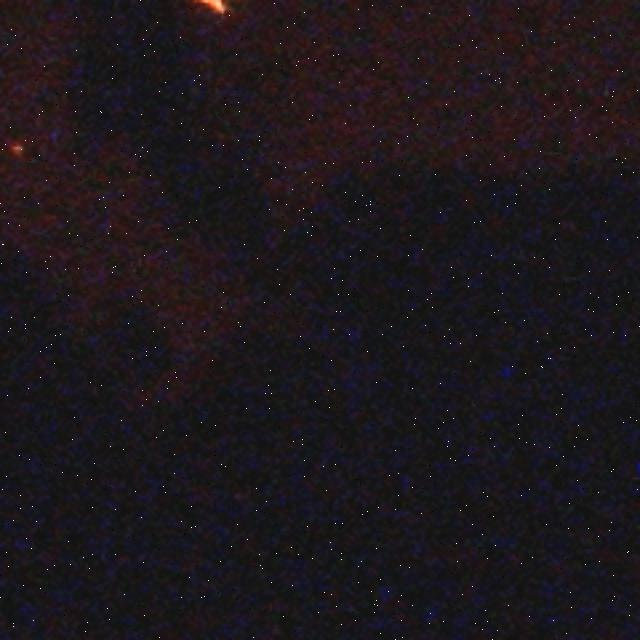Film: (189, 0, 226, 19)
